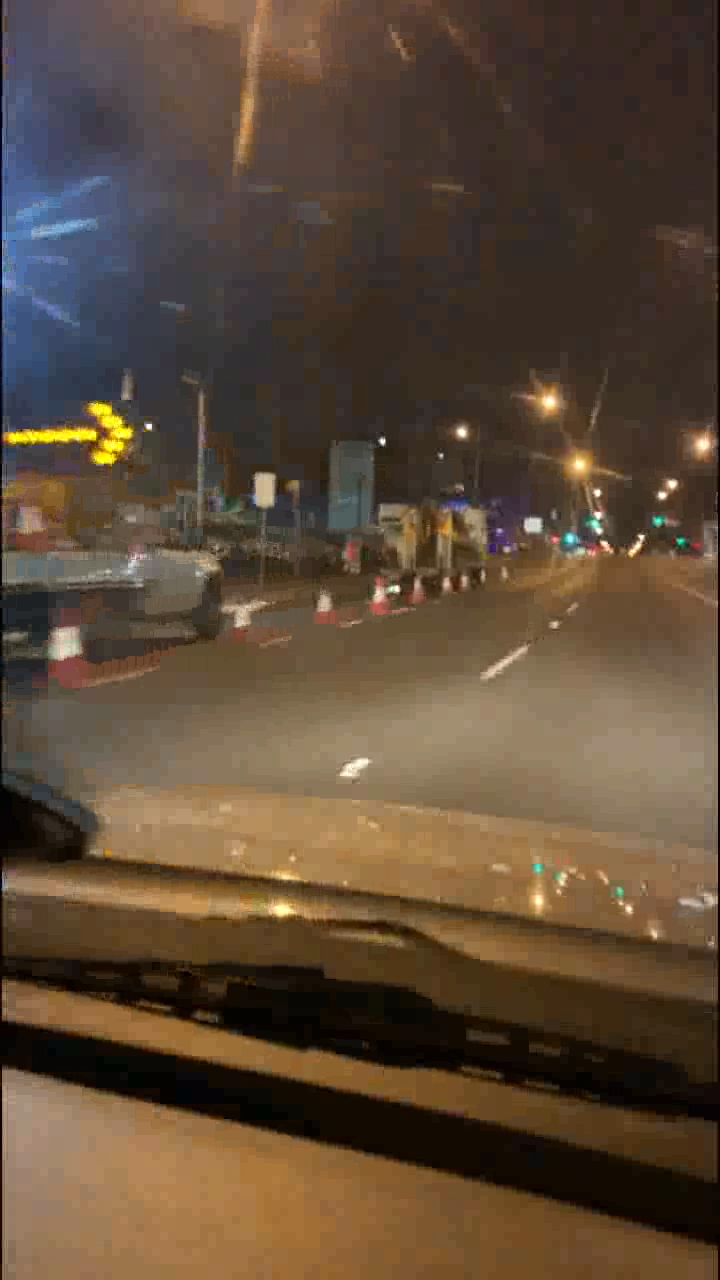road cone: (307, 585, 337, 630), (372, 578, 390, 610)
truck: (7, 433, 242, 628), (380, 487, 505, 578)
